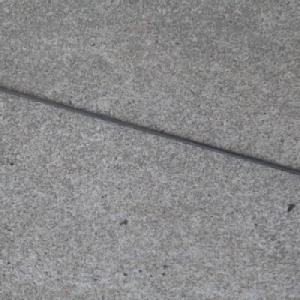LuggagePart: (0, 84, 300, 175)
